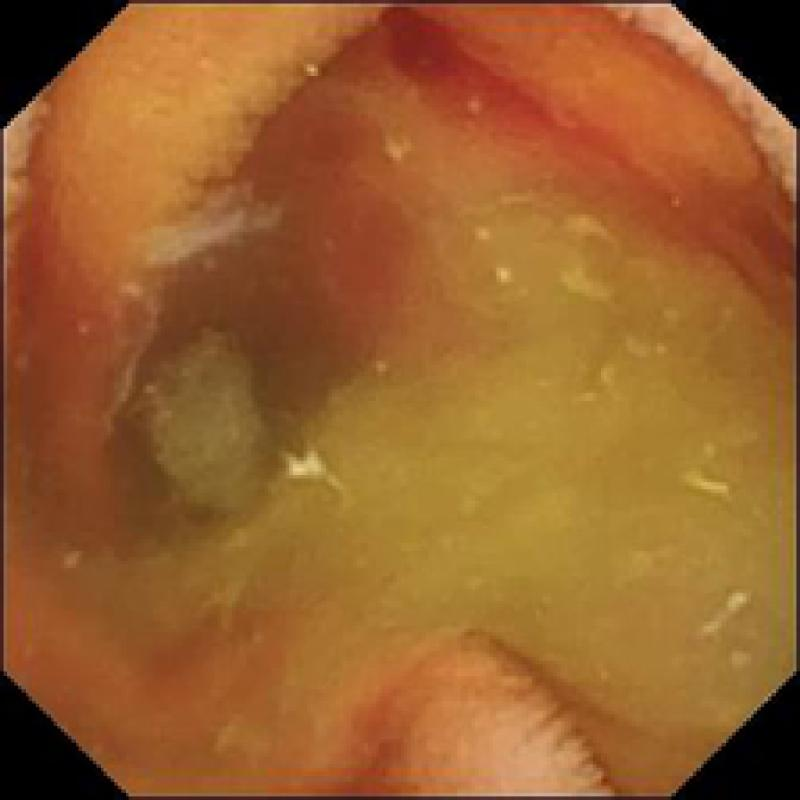bleeding: (378, 11, 704, 232), (0, 213, 116, 456)
